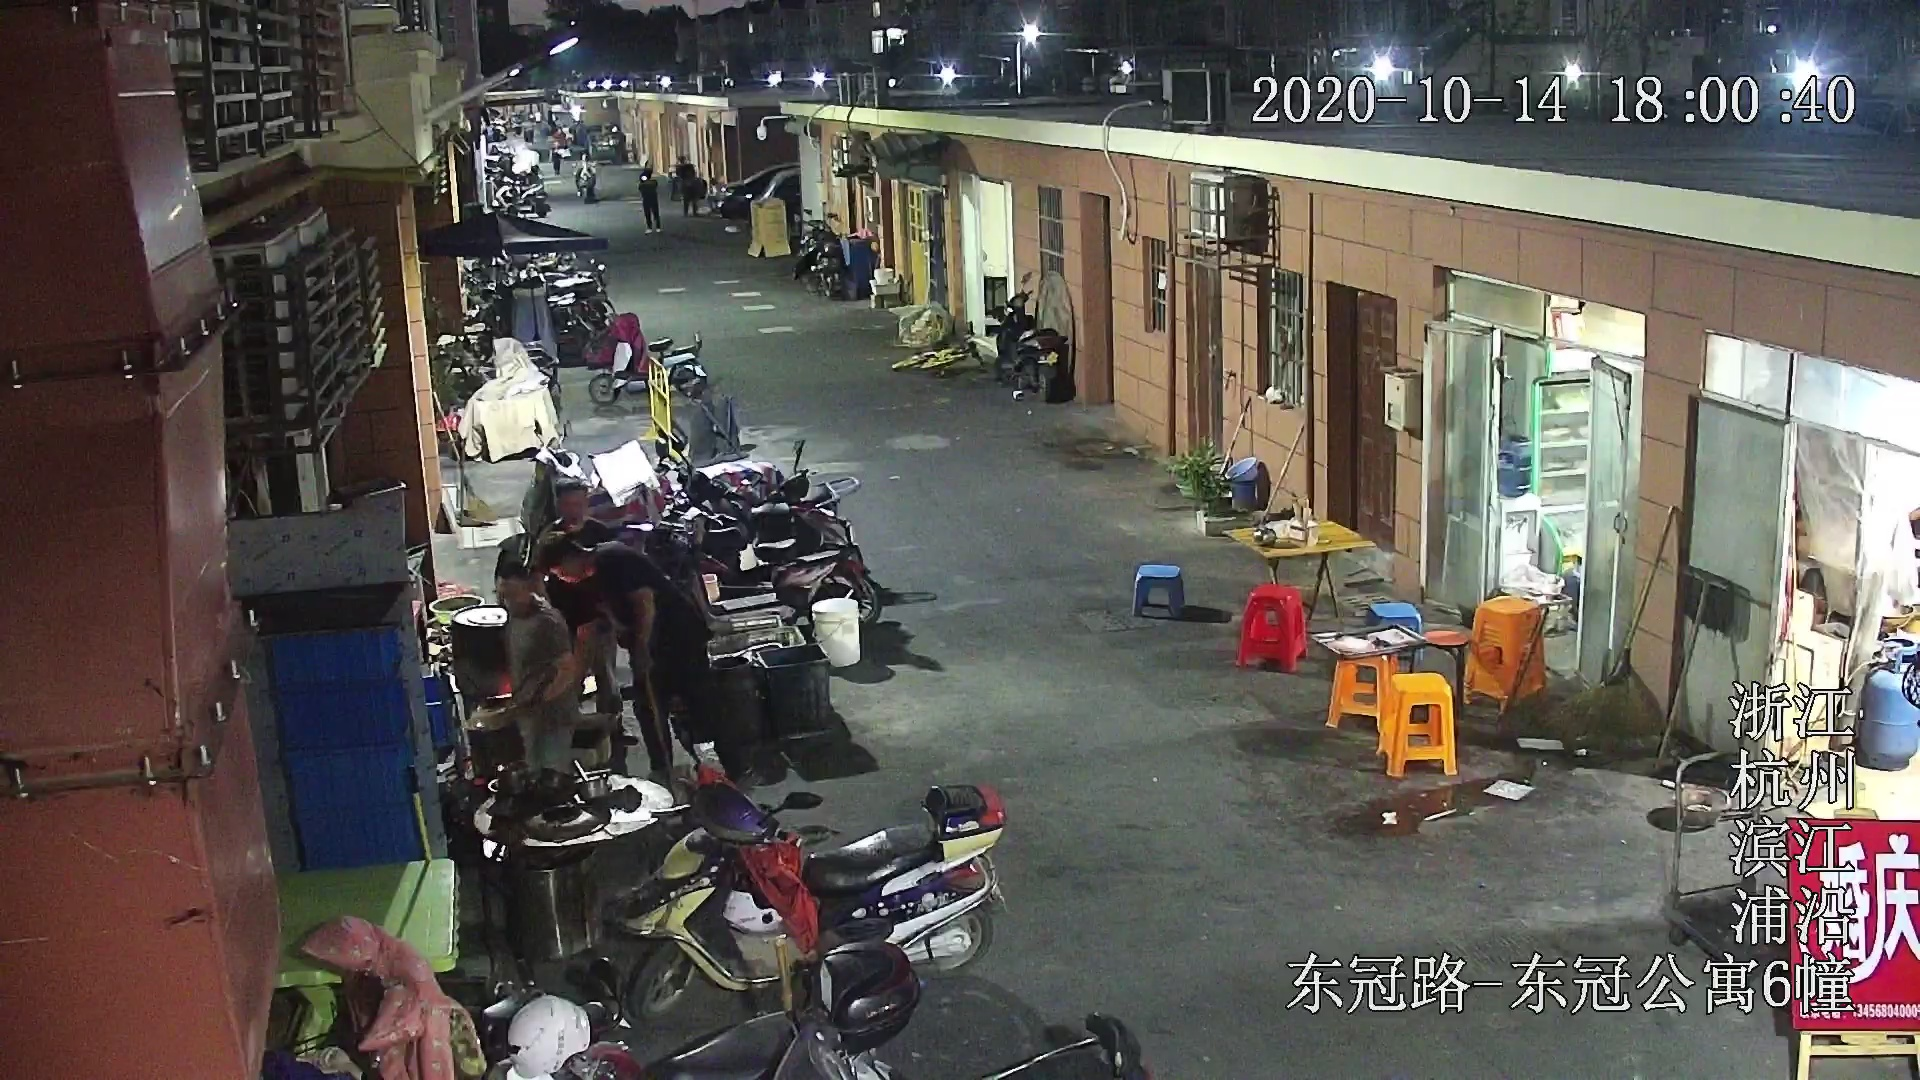chair: (1464, 596, 1545, 707), (1377, 673, 1458, 779), (1234, 583, 1309, 673), (1324, 651, 1400, 731), (1408, 629, 1472, 703), (1366, 603, 1423, 659), (1129, 563, 1185, 618)
table: (272, 857, 462, 1048), (1222, 516, 1375, 622)
table_chair: (1127, 513, 1425, 676)
umbrella: (418, 208, 608, 255)
